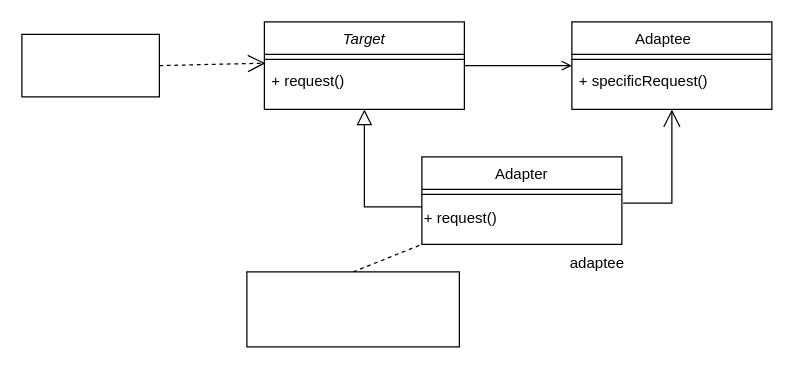
Image size: 794x369. Some labels were removed from this diagram. The centre of each missing label's shape, as x and y in pixels:
"adaptee. specificRequest()" goes at (352,309).
"Client" goes at (90,65).
